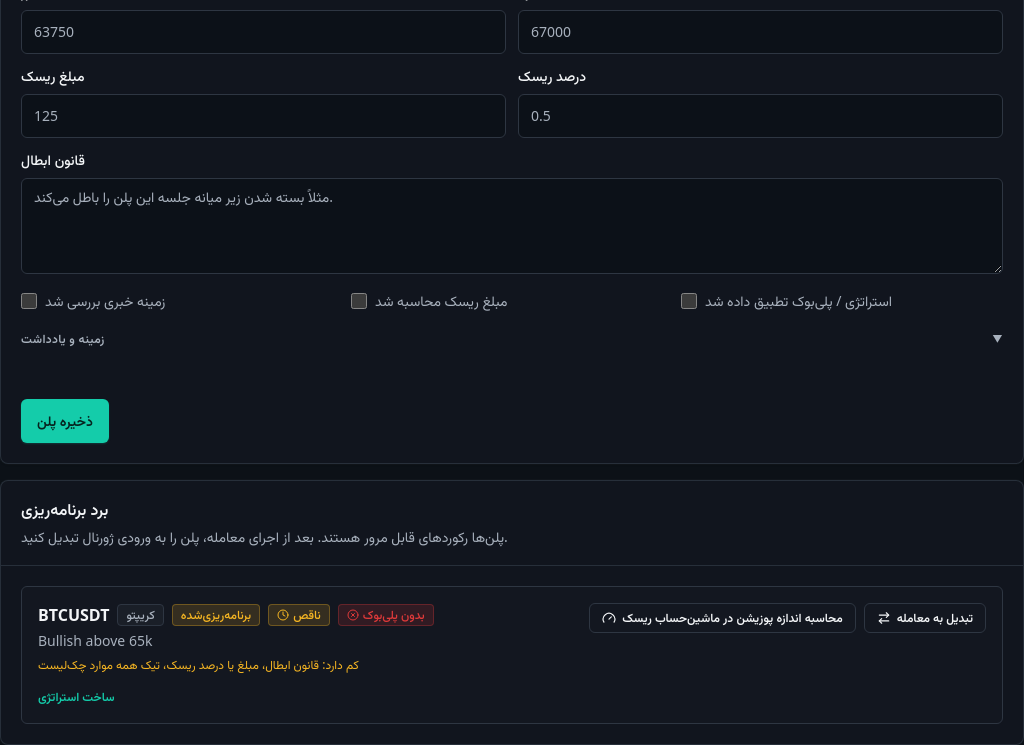
Test case: the Persian page calls a plan پلن › reads the older-plan hint as one clear instruction about long or short
(page scrolled)
Click the button "تبدیل به معامله". click: (925, 618)
box: [864,603,986,633]
(page scrolled)
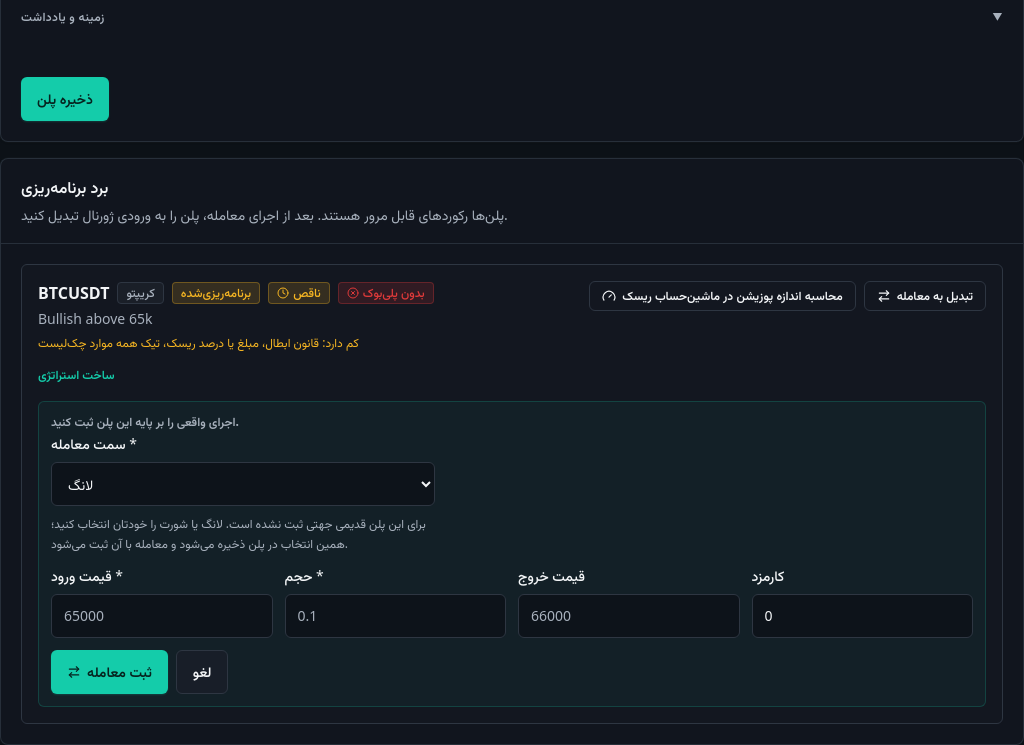
Result: the text "برای این پلن قدیمی" shows "برای این پلن قدیمی جهتی ثبت نشده است. لانگ یا شورت را خودتان انتخاب کنید؛ همین انتخاب در پلن ذخیره می‌شود و معامله با آن ثبت می‌شود." at [51,515,426,552]
